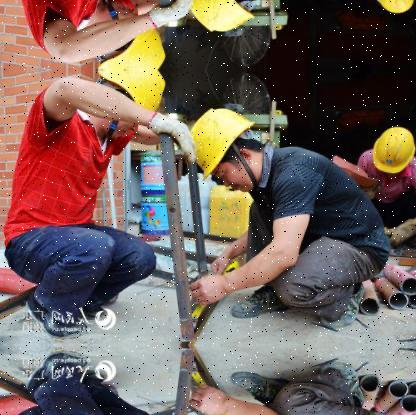helmet: (188, 104, 271, 194), (88, 69, 172, 143), (87, 0, 172, 70), (188, 0, 272, 35), (372, 125, 416, 180), (371, 0, 416, 14)
